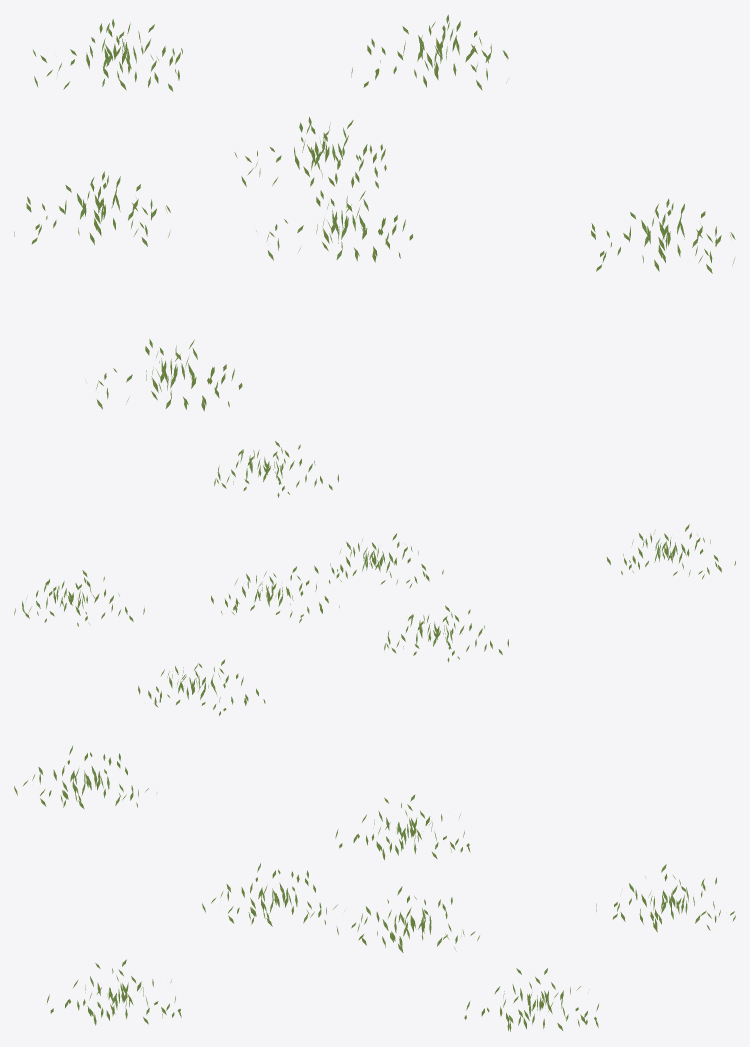
The model's file is a_sch_ground01_obj_grass01.gltf.
3 renders of one model, top to bottom at view 1: azimuth 30°, elevation 25°; view 2: azimuth 150°, elevation 25°; view 3: azimuth 270°, elevation 25°, orthographic. The views are drawn at different scales.
Parts seen in each view (by area): view 1: um_a_sch_ground01_obj_grass01_model_a_sch_ground01_obj_grass; view 2: um_a_sch_ground01_obj_grass01_model_a_sch_ground01_obj_grass; view 3: um_a_sch_ground01_obj_grass01_model_a_sch_ground01_obj_grass.
Part boxes in pixels (<box>): um_a_sch_ground01_obj_grass01_model_a_sch_ground01_obj_grass: <box>14,14,735,411</box>; um_a_sch_ground01_obj_grass01_model_a_sch_ground01_obj_grass: <box>14,441,735,715</box>; um_a_sch_ground01_obj_grass01_model_a_sch_ground01_obj_grass: <box>14,746,735,1031</box>.
Size of the model in its own units: 9.61 by 0.25 by 10.51.
1 material, 1 textured.
